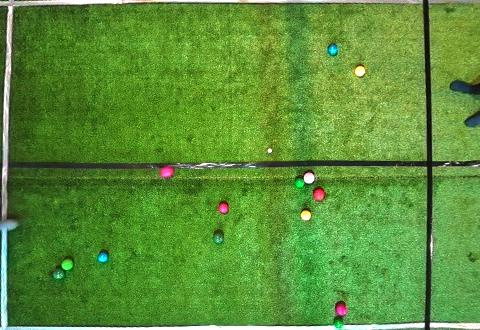blue: (97, 251, 109, 264), (328, 44, 338, 56)
green: (52, 268, 65, 280), (61, 258, 74, 270), (213, 232, 224, 244), (333, 317, 344, 329), (295, 177, 304, 188)
red: (312, 189, 325, 201), (160, 166, 174, 177), (303, 172, 315, 184), (218, 202, 229, 214), (336, 304, 347, 315)
vline: (422, 0, 479, 329), (0, 0, 15, 220), (0, 230, 9, 329)
white: (267, 148, 272, 153)
yellow: (354, 66, 366, 77), (301, 210, 312, 220)
